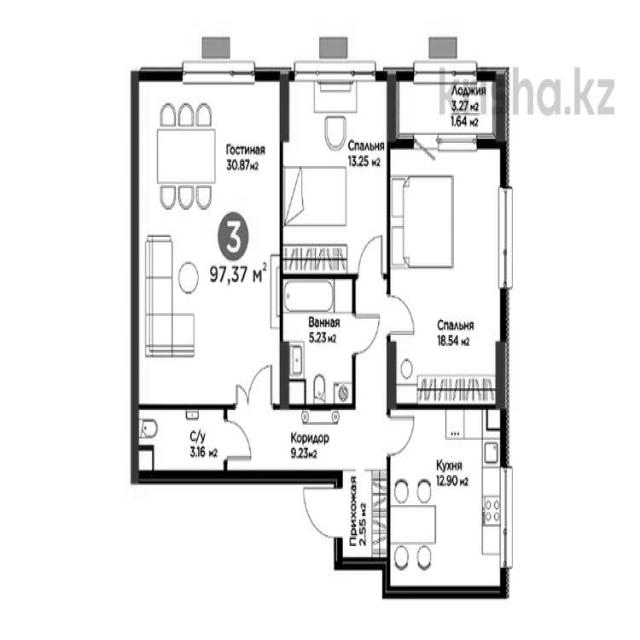balcony: (396, 73, 504, 144)
bathroom: (286, 278, 356, 408), (138, 411, 230, 479)
hallway: (230, 275, 390, 563)
kitchen: (388, 408, 508, 592)
living_room: (135, 67, 284, 408), (390, 145, 502, 407), (287, 75, 388, 279)
